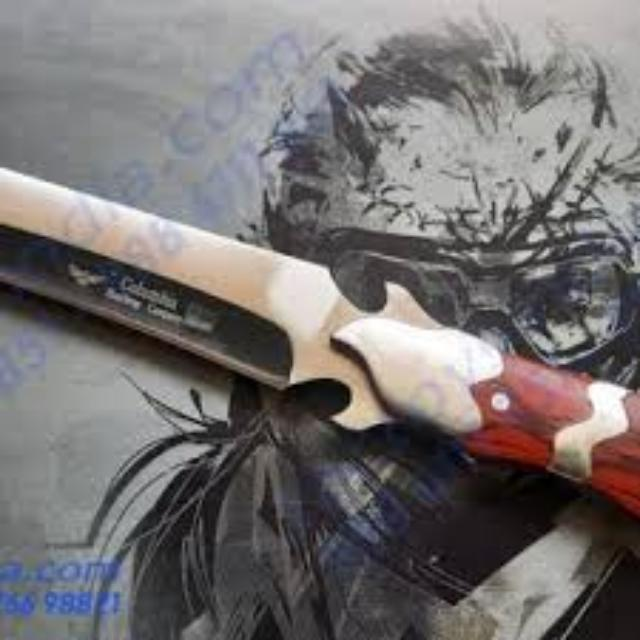knife: (0, 153, 638, 602)
